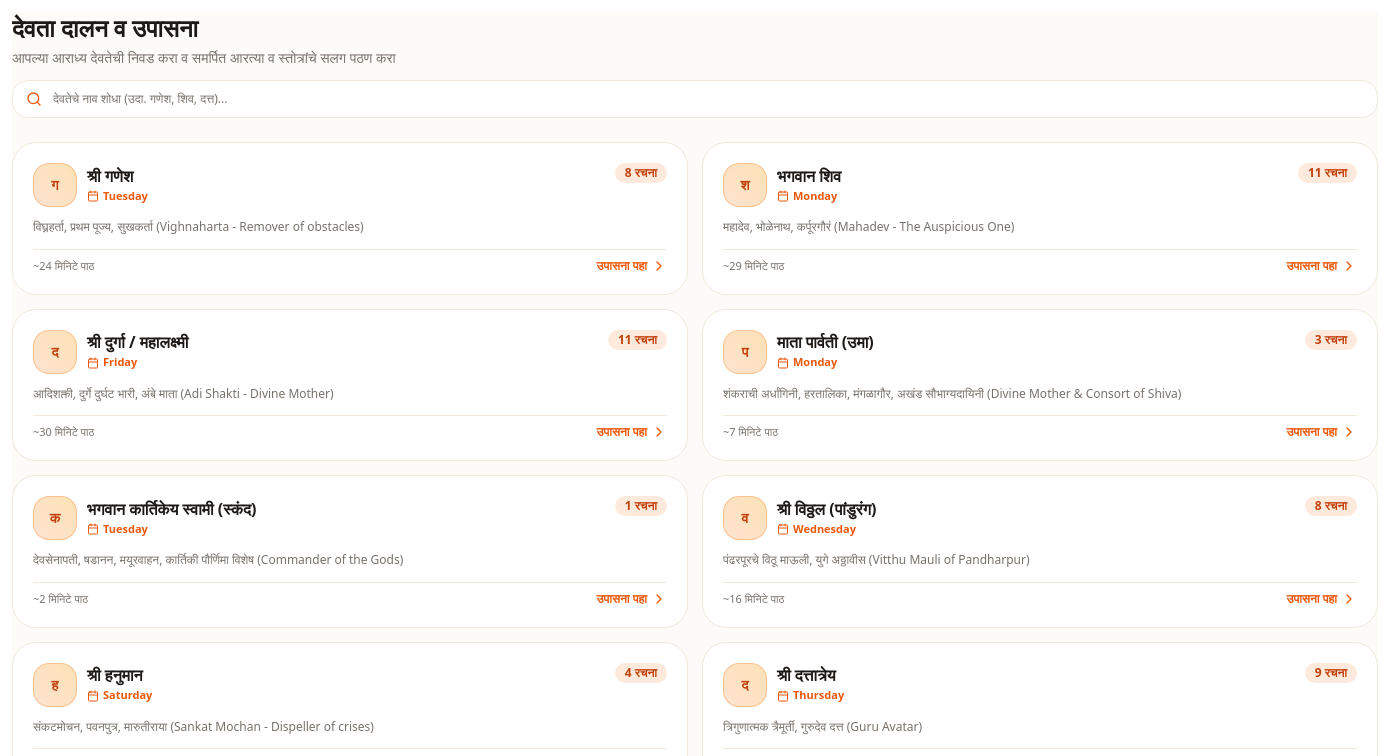
Test case: DeitiesPage Navigation & Aarti Grouping › clicking a deity card selects that deity and presents dedicated aartis
Click the button "श्री गणेश": (350, 218) [12,142,688,294]
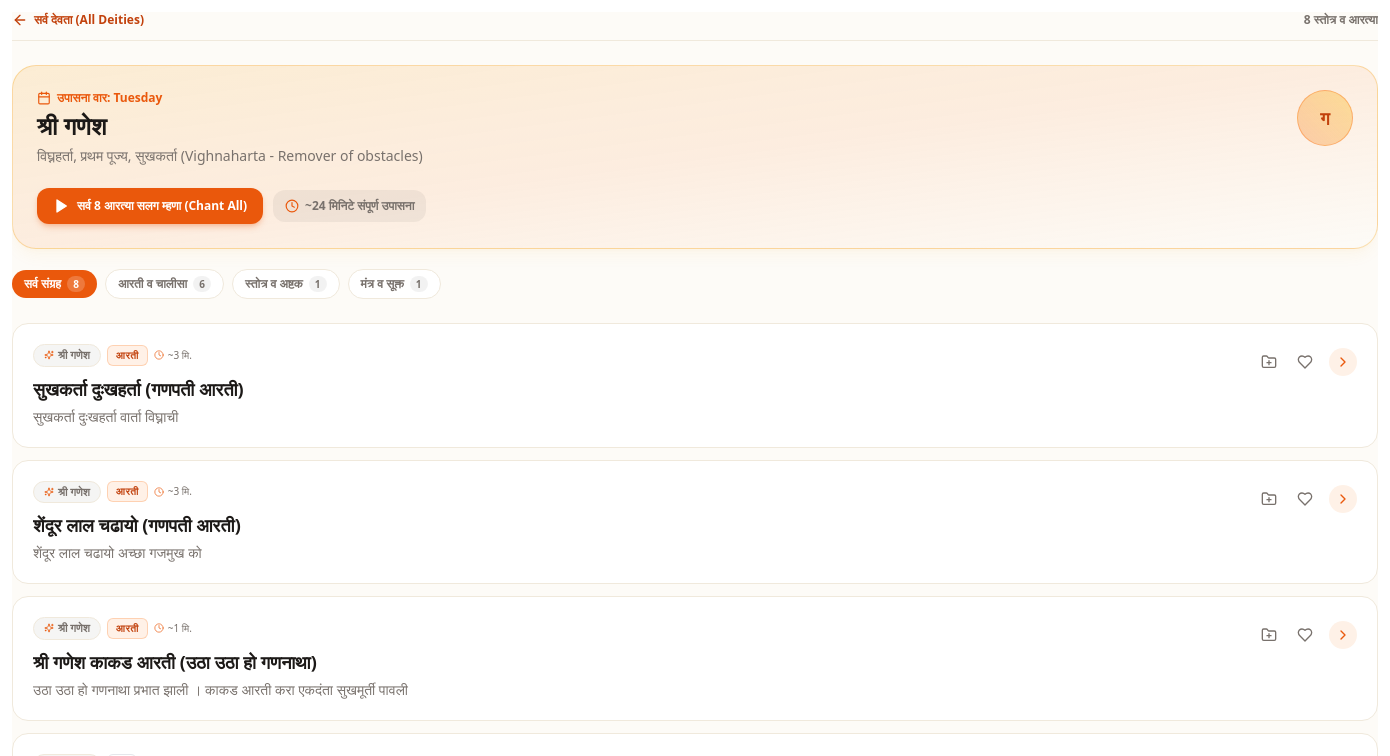
Check: the text "सर्व 8 आरत्या सलग म्हणा (Chant All)" is shown, box [77,198,247,214]
